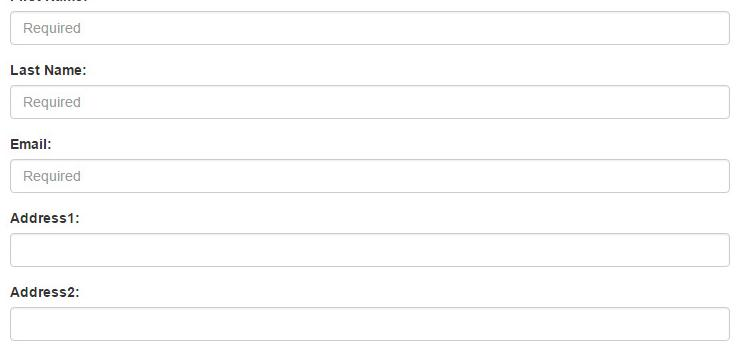field: (5, 156, 731, 196), (5, 82, 731, 121), (7, 304, 732, 343), (7, 8, 731, 47), (7, 230, 730, 269)
field_with_label: (2, 136, 733, 199), (5, 210, 732, 273), (3, 285, 735, 347), (2, 64, 734, 124)
